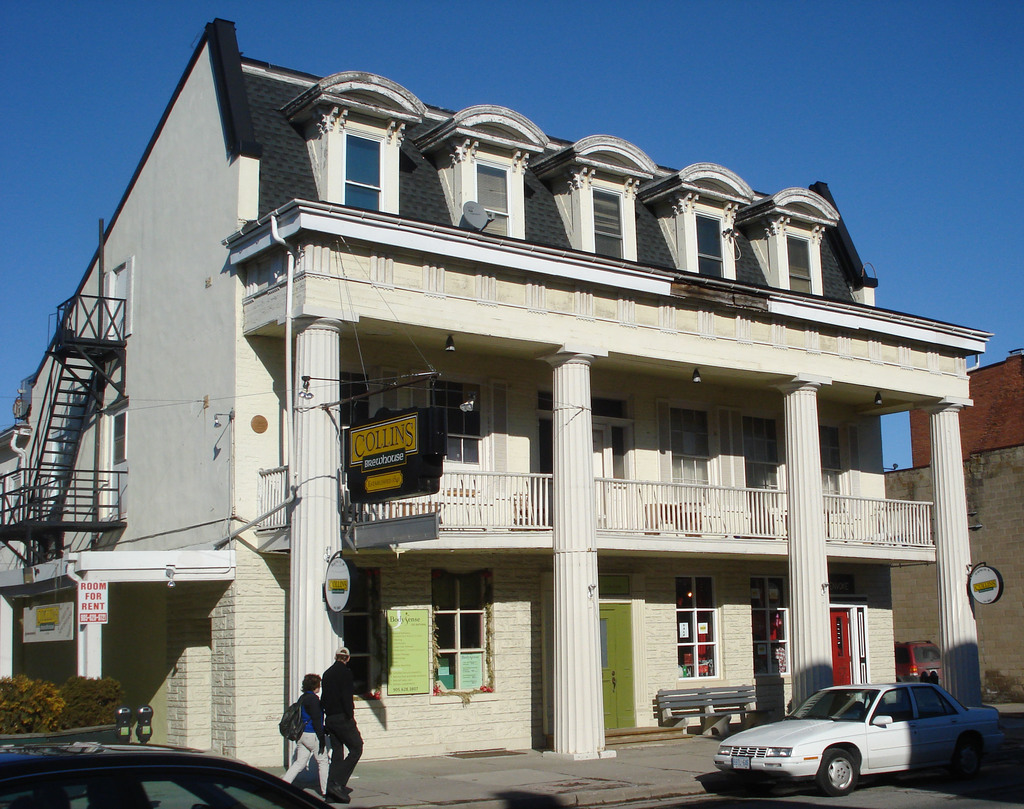mobil: (722, 676, 1006, 809)
